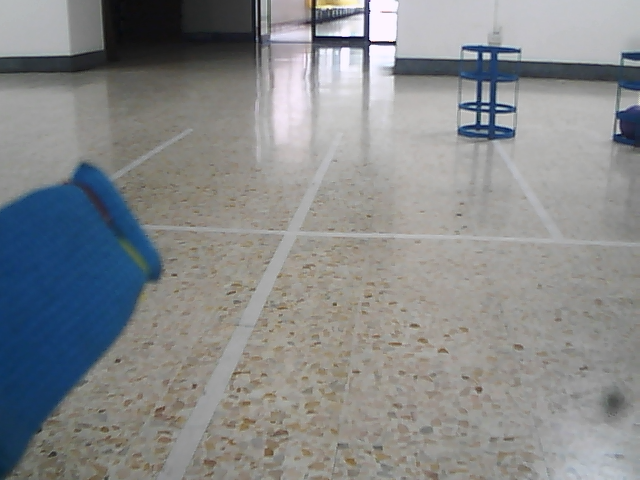Cyro: (455, 42, 522, 143), (611, 48, 640, 150)
Purple ball: (618, 104, 640, 144)
